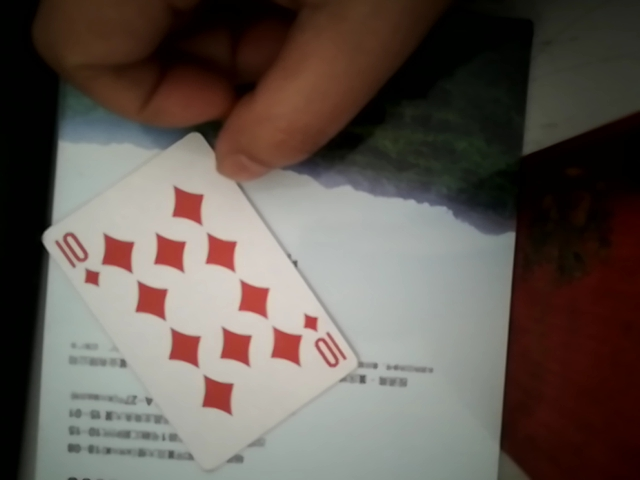fk 10: (48, 133, 354, 462)
